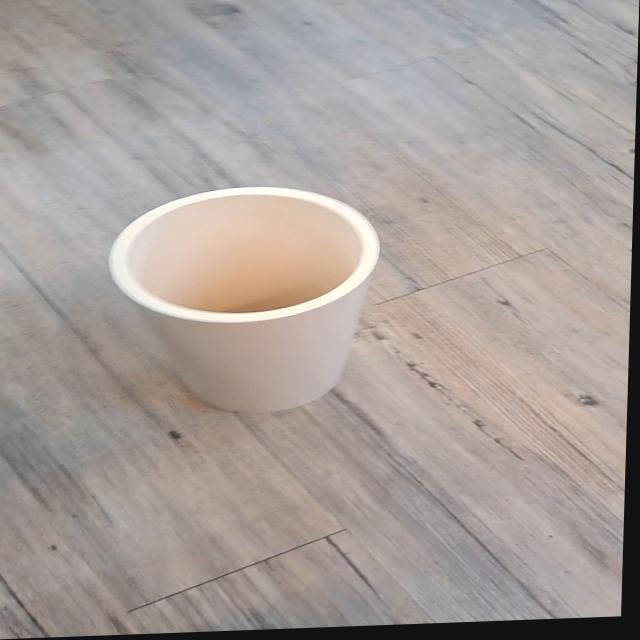CORAL: (74, 168, 425, 434)
